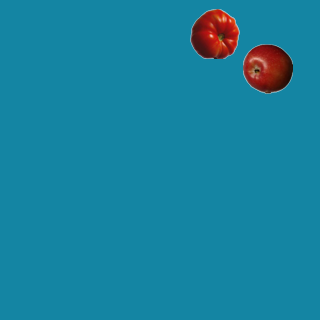Apple Braeburn: (242, 43, 292, 93)
Tomato 3: (189, 8, 239, 58)
